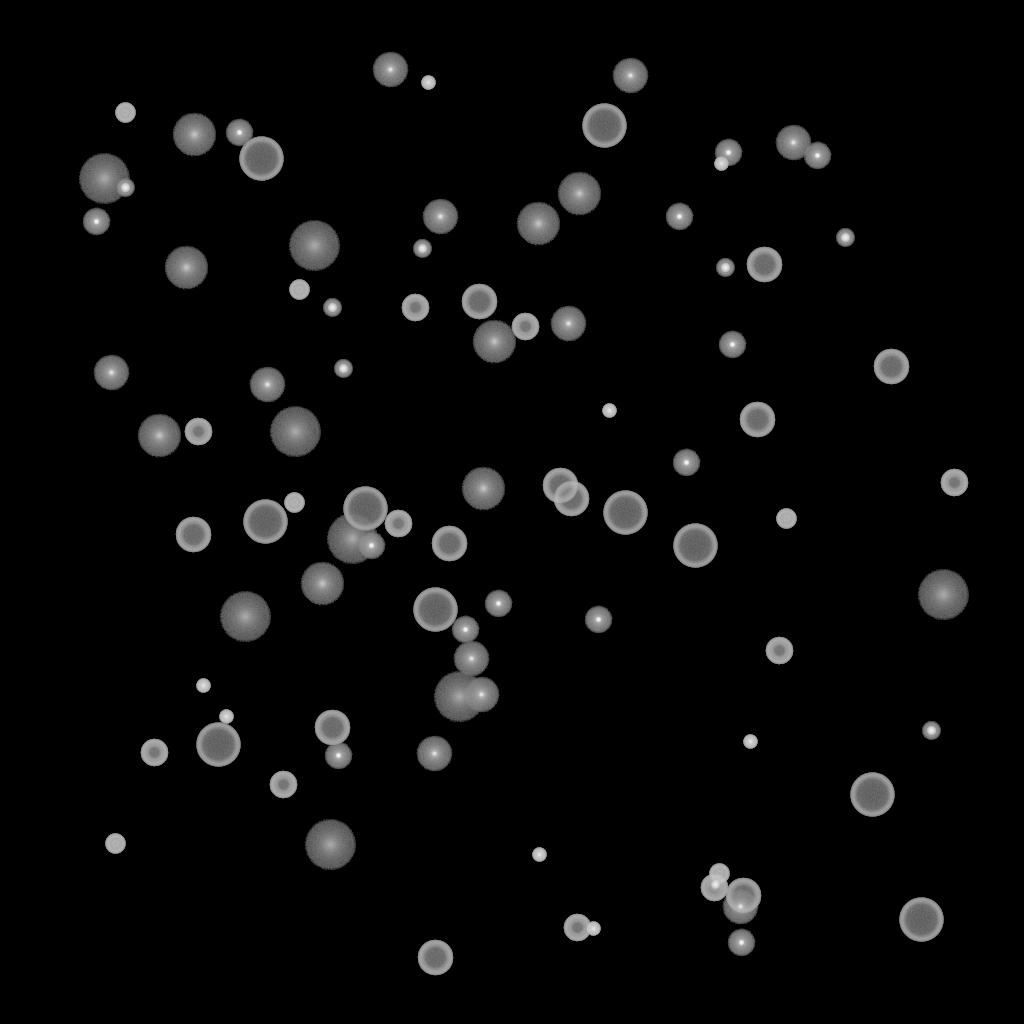depth:-10: (484, 590, 512, 618), (718, 331, 746, 359), (672, 449, 700, 477), (324, 742, 352, 770), (803, 142, 831, 170), (82, 208, 110, 236), (451, 616, 479, 644), (727, 929, 755, 957), (665, 203, 693, 231), (357, 532, 385, 560), (714, 139, 742, 167), (584, 606, 612, 634), (225, 119, 253, 147)
depth:-20: (323, 299, 341, 317), (922, 722, 940, 740), (116, 179, 134, 197), (334, 360, 352, 378), (706, 876, 724, 894), (413, 240, 431, 258), (716, 259, 734, 277), (836, 229, 854, 247)
depth:-30: (714, 157, 728, 171), (743, 735, 757, 749), (196, 679, 210, 693), (219, 710, 233, 724), (532, 848, 546, 862), (602, 404, 616, 418), (586, 922, 600, 936), (421, 76, 435, 90)
depth:-40: (289, 280, 309, 300), (709, 864, 729, 884), (105, 834, 125, 854), (284, 493, 304, 513), (776, 509, 796, 529), (115, 103, 135, 123)
depth:-50: (563, 914, 591, 942), (269, 771, 297, 799), (700, 874, 728, 902), (401, 294, 429, 322), (940, 469, 968, 497), (140, 739, 168, 767), (511, 313, 539, 341), (184, 418, 212, 446), (384, 510, 412, 538), (765, 637, 793, 665)
depth:-60: (314, 710, 350, 746), (175, 517, 211, 553), (553, 481, 589, 517), (746, 247, 782, 283), (873, 349, 909, 385), (417, 940, 453, 976), (542, 468, 578, 504), (461, 284, 497, 320), (431, 526, 467, 562), (739, 402, 775, 438), (725, 878, 761, 914)
depth:-70: (243, 500, 287, 544), (413, 588, 457, 632), (239, 137, 283, 181), (673, 524, 717, 568), (343, 487, 387, 531), (603, 491, 647, 535), (850, 773, 894, 817), (899, 898, 943, 942), (196, 723, 240, 767), (582, 104, 626, 148)
depth:0: (372, 52, 408, 88), (422, 199, 458, 235), (463, 677, 499, 713), (612, 58, 648, 94), (775, 125, 811, 161), (453, 641, 489, 677), (722, 889, 758, 925), (416, 736, 452, 772), (93, 355, 129, 391), (249, 367, 285, 403), (550, 306, 586, 342)
depth:10: (557, 172, 601, 216), (516, 202, 560, 246), (137, 414, 181, 458), (461, 467, 505, 511), (172, 113, 216, 157), (164, 246, 208, 290), (300, 562, 344, 606), (472, 320, 516, 364)
depth:20: (219, 592, 271, 642), (326, 514, 378, 564), (288, 221, 340, 271), (78, 154, 130, 204), (269, 407, 321, 457), (433, 672, 485, 722), (304, 820, 356, 870), (917, 570, 969, 620)
